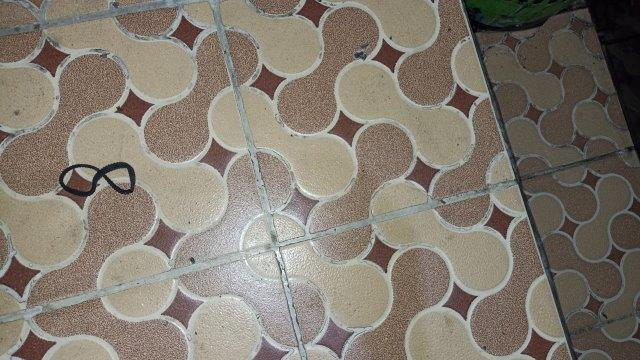karet: (60, 163, 135, 196)
